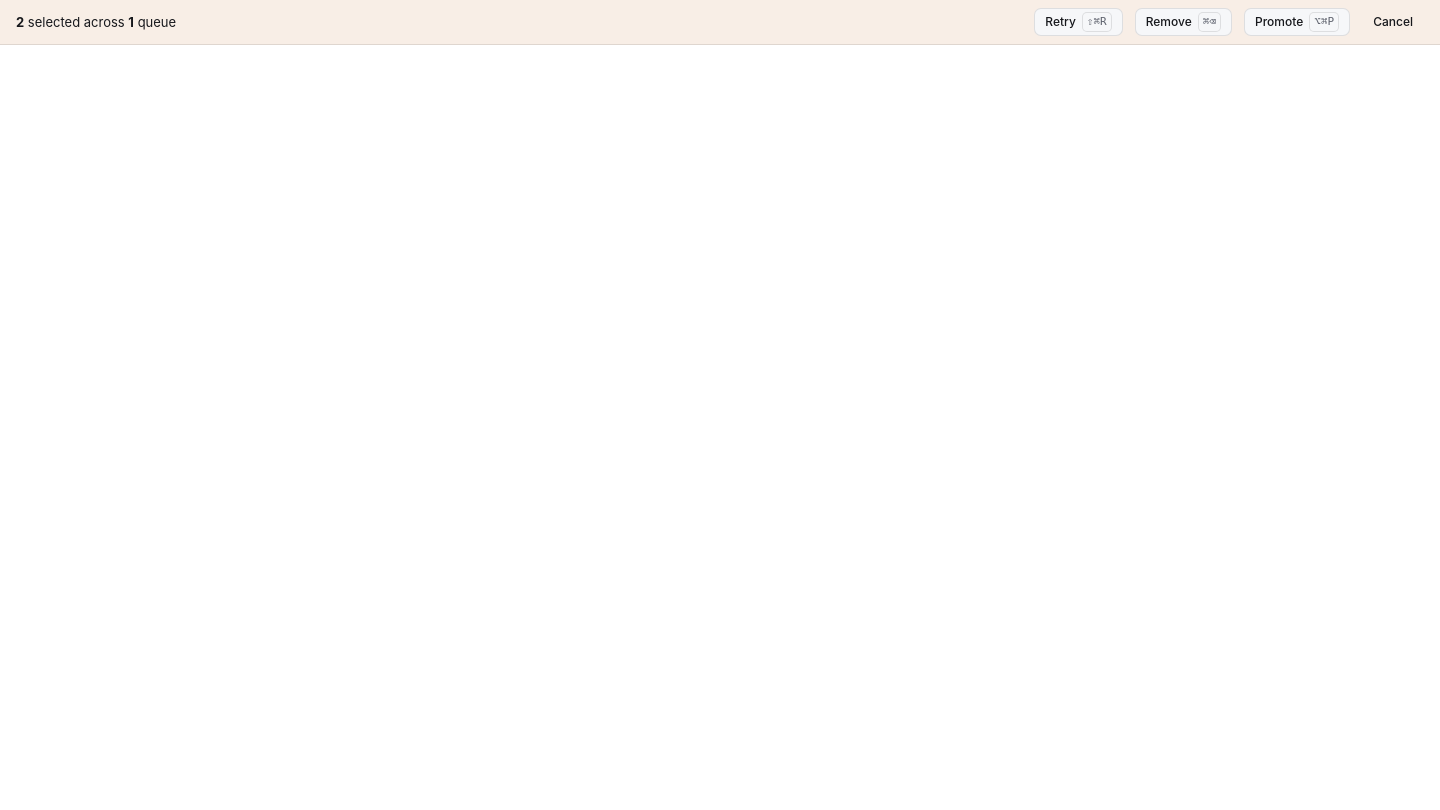
Test case: BulkActionBar: preview state › Remove preview includes the irreversible warning when count > 1
Click the button with test id "bulk-action-remove".
click(1183, 22)  # box [1135,8,1232,36]
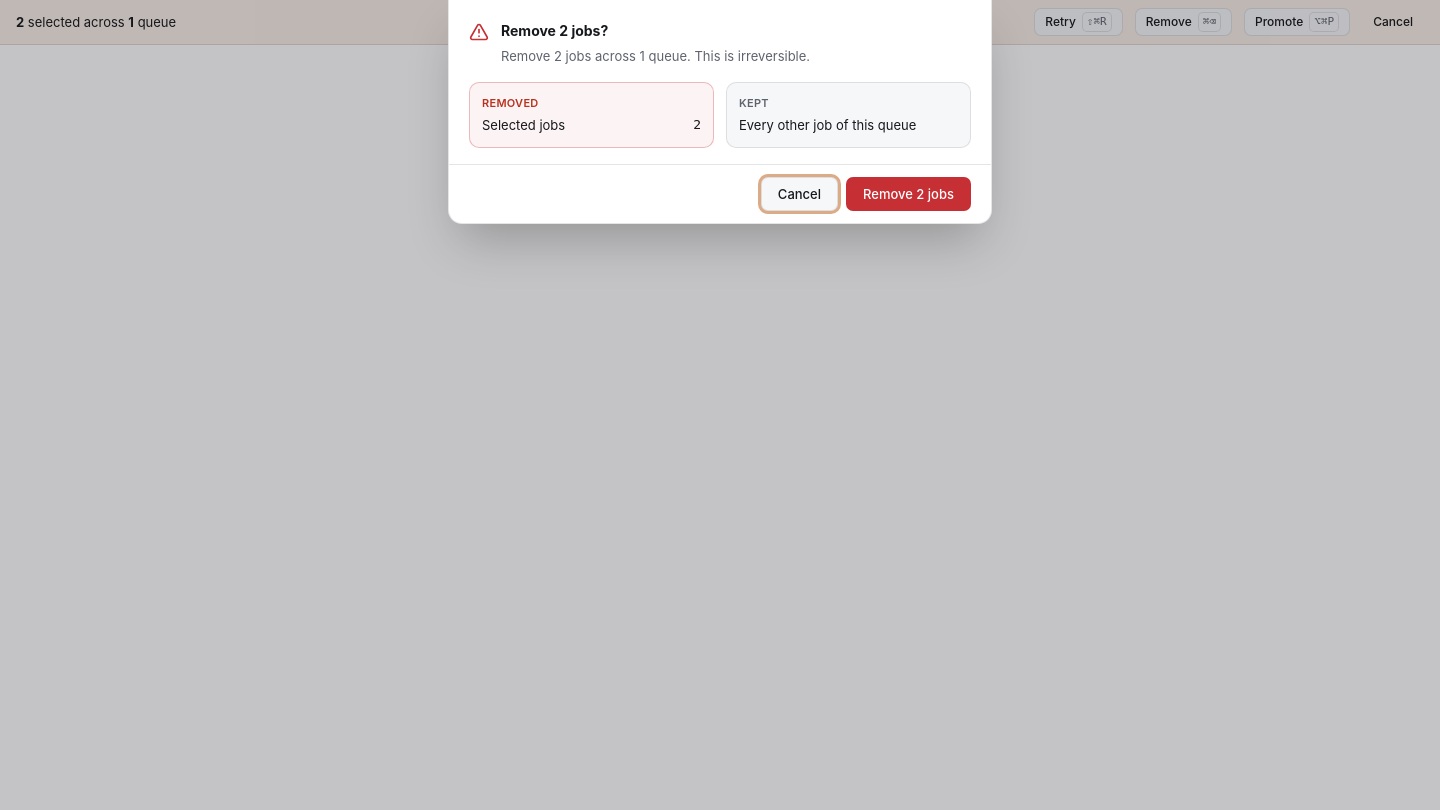
expect the text with test id "bulk-action-bar-preview" shows "irreversible": met, box [691,48,810,64]
